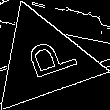P_W: (12, 34, 75, 87)
